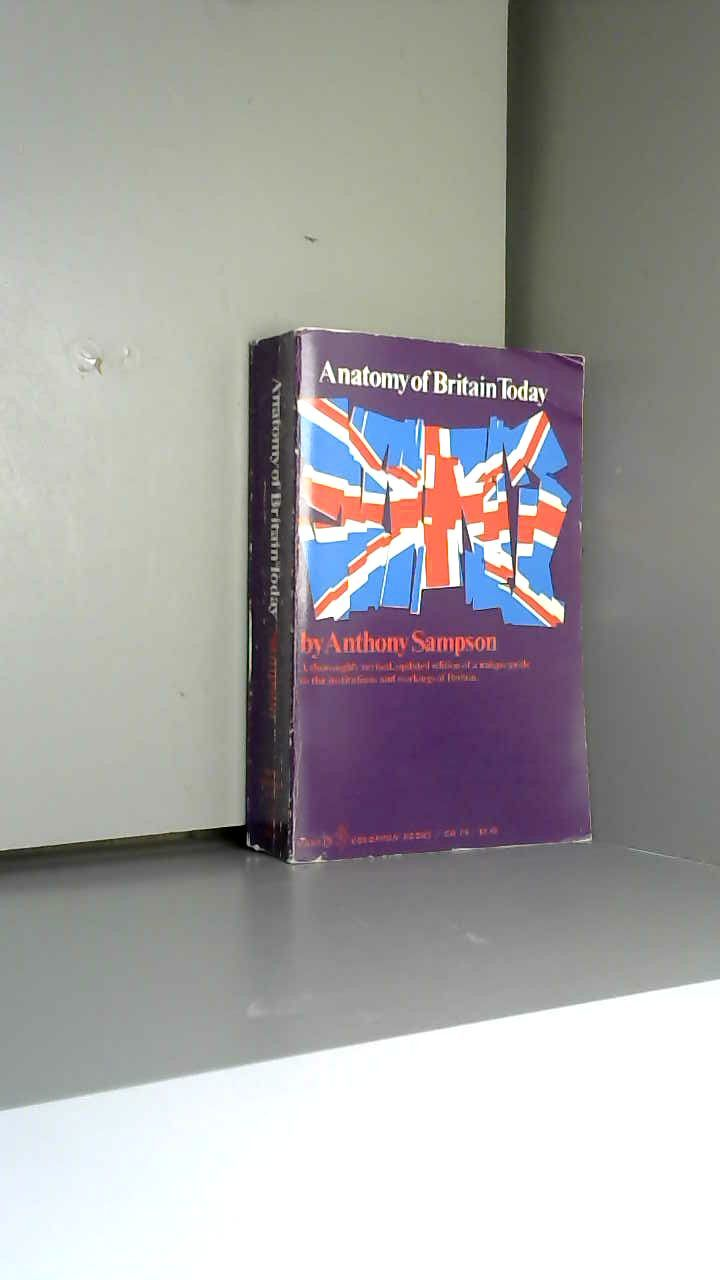book: (214, 290, 622, 910)
